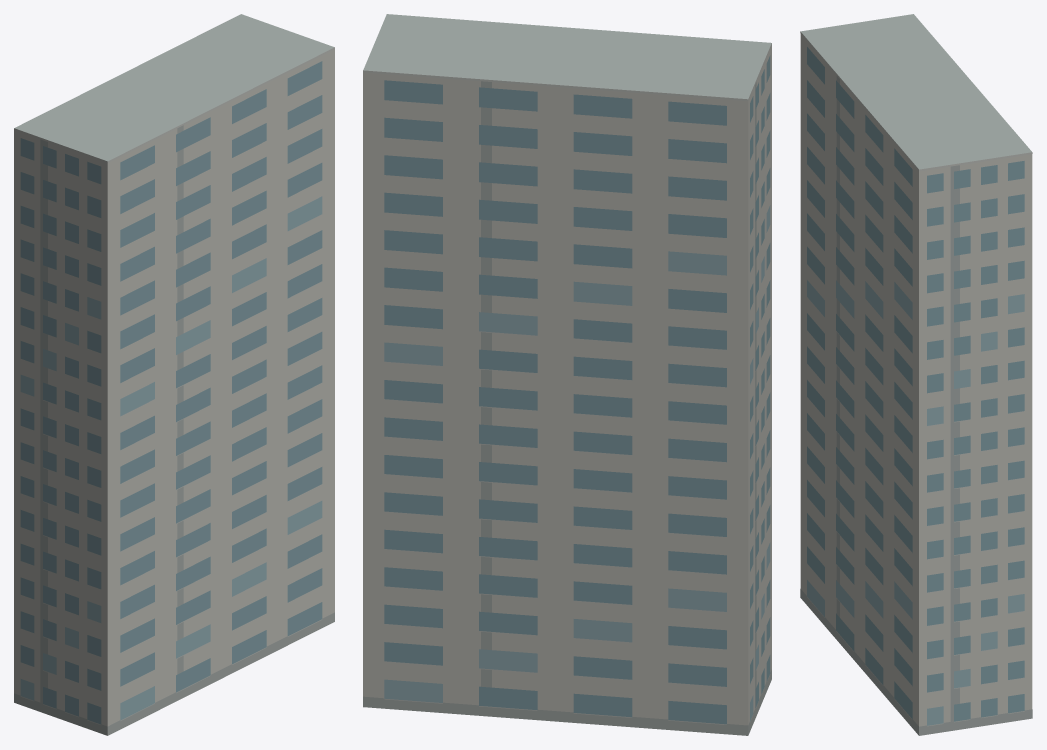
Rendered from residential-1205b636-a4c0-4eb7-b971-f5dfb5ea2106.glb.
The picture shows the model from 3 angles, left to right: view 1: azimuth 30°, elevation 25°; view 2: azimuth 150°, elevation 25°; view 3: azimuth 270°, elevation 25°; orthographic projection. The views are drawn at different scales.
Visible parts, largest first — view 1: residential-1205b636-a4c0-4eb7-b971-f5dfb5ea2106.tmp; view 2: residential-1205b636-a4c0-4eb7-b971-f5dfb5ea2106.tmp; view 3: residential-1205b636-a4c0-4eb7-b971-f5dfb5ea2106.tmp.
Boxes of the visible parts, bbox=[...] form: residential-1205b636-a4c0-4eb7-b971-f5dfb5ea2106.tmp: bbox=[14, 14, 334, 735]; residential-1205b636-a4c0-4eb7-b971-f5dfb5ea2106.tmp: bbox=[363, 14, 771, 735]; residential-1205b636-a4c0-4eb7-b971-f5dfb5ea2106.tmp: bbox=[800, 14, 1032, 735].
Bounding box in the file's own units: 44.19 × 75 × 27.85.
